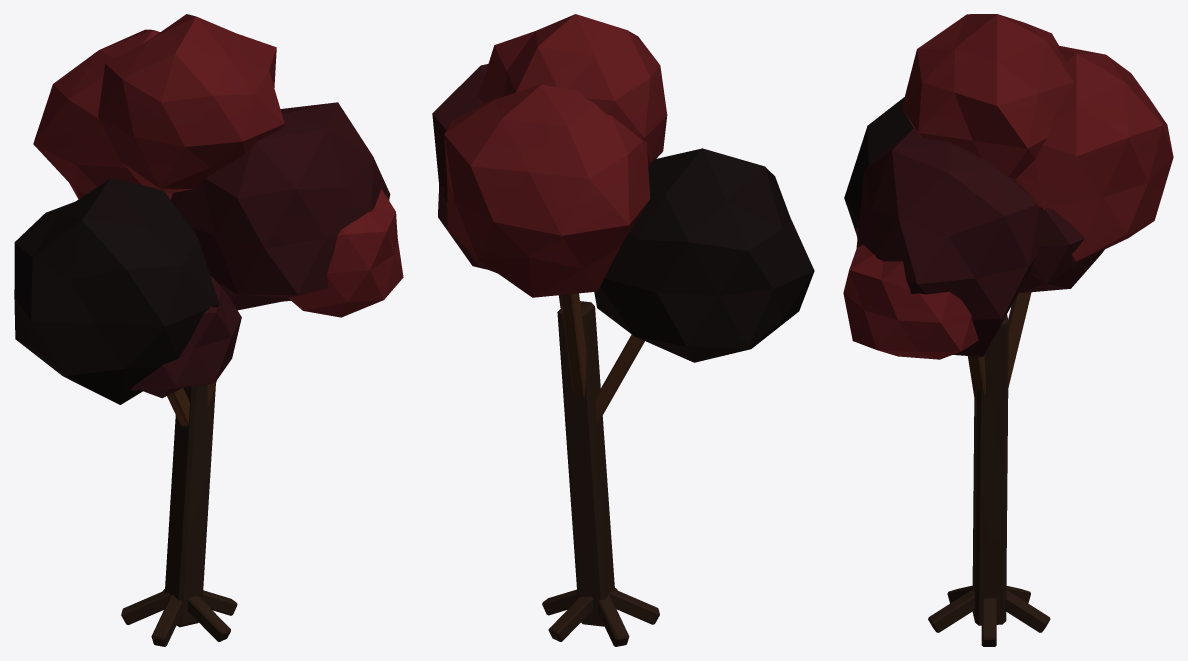
Rendered from env_rowan_native-CiGDPXtB.glb.
3 views of the same model, side by side, from view 1: azimuth 30°, elevation 25°; view 2: azimuth 150°, elevation 25°; view 3: azimuth 270°, elevation 25° (orthographic). The views are drawn at different scales.
Parts seen in each view (by area): view 1: env_rowan_native_l1_body; view 2: env_rowan_native_l1_body; view 3: env_rowan_native_l1_body.
Boxes of the visible parts, box(x1,y1,x2,y2) form: env_rowan_native_l1_body: box(14, 14, 403, 646); env_rowan_native_l1_body: box(432, 14, 814, 646); env_rowan_native_l1_body: box(843, 14, 1173, 646).
Bounding box in the file's own units: 1.56 × 2.51 × 1.21.
1 material, 1 textured.
